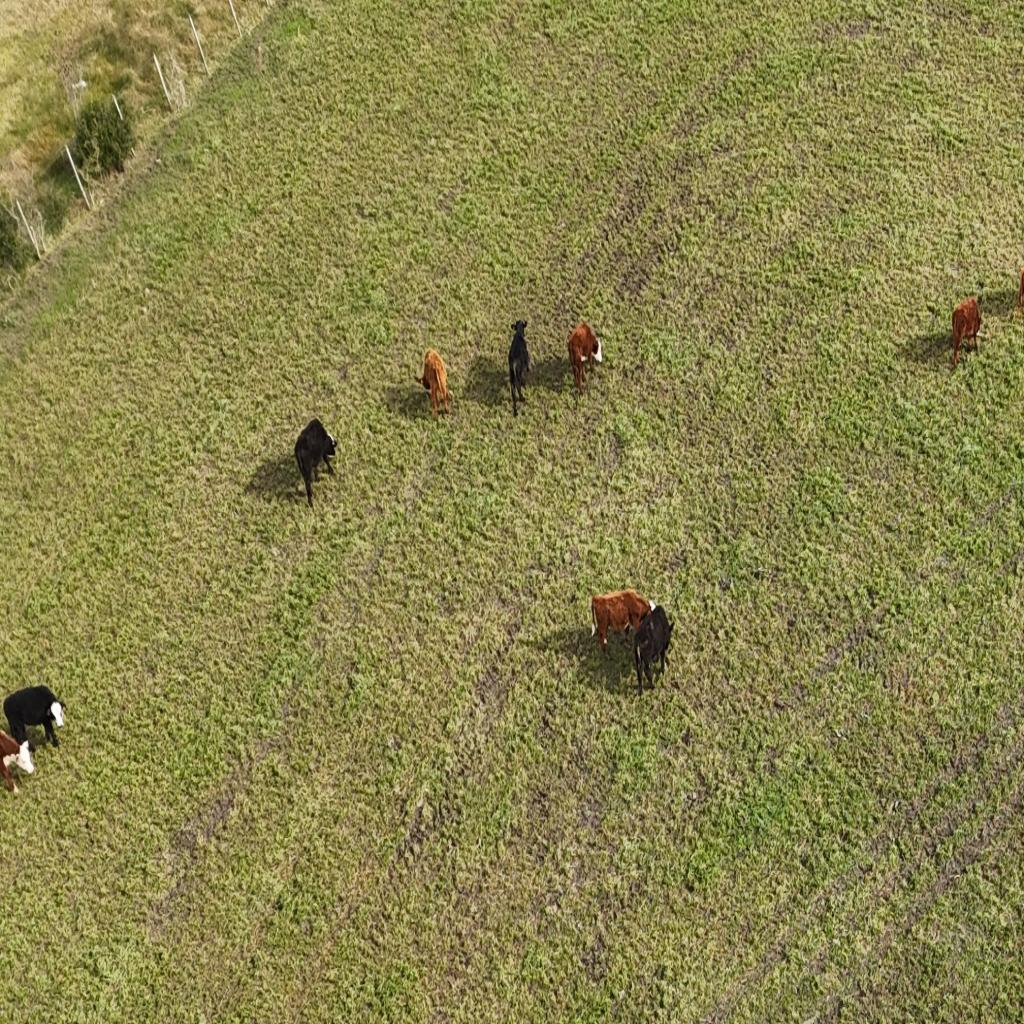cow: (291, 408, 343, 508), (588, 585, 659, 652), (2, 684, 67, 754), (634, 595, 682, 686), (413, 345, 456, 425), (567, 322, 602, 399), (506, 316, 530, 416), (953, 296, 983, 370), (0, 726, 29, 792)
